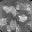people: (9, 19, 18, 30), (0, 18, 9, 26), (18, 13, 27, 21), (11, 6, 17, 17), (3, 6, 11, 13)
